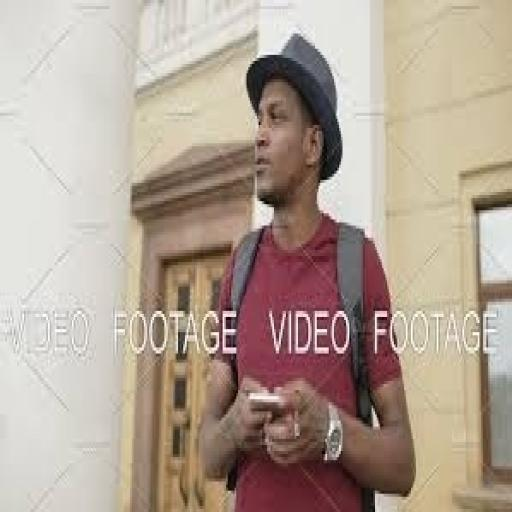texting: (197, 27, 418, 509)
